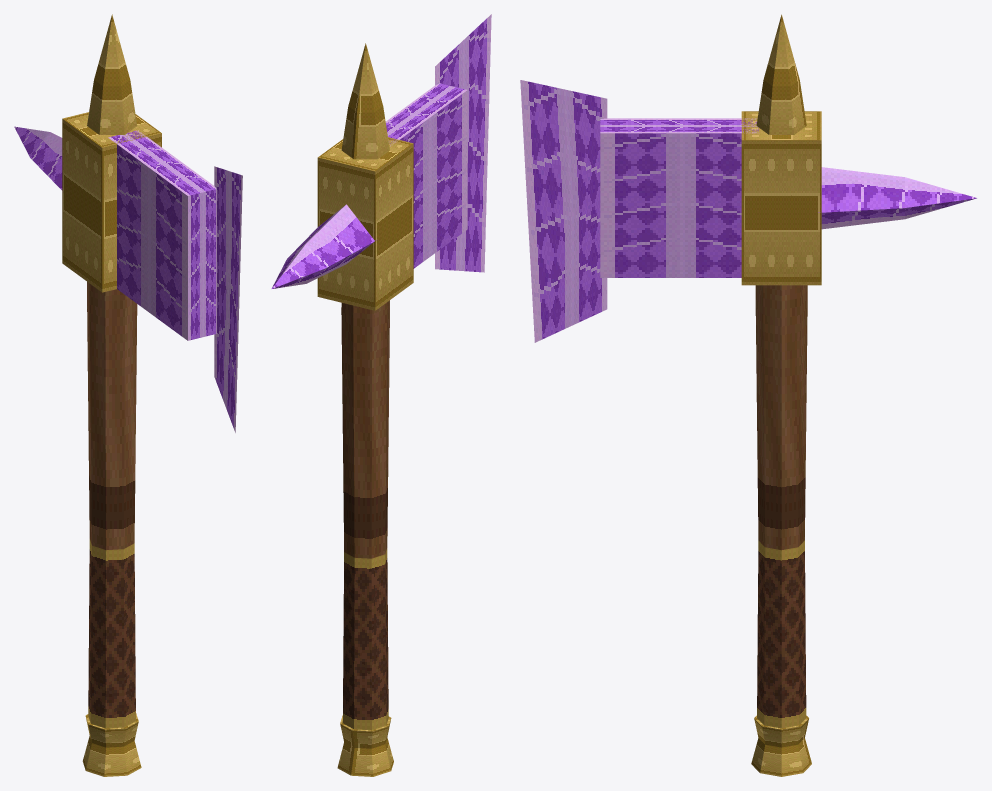
The model's file is machado_de_ametista.glb.
3 views of the same model, side by side, from view 1: azimuth 30°, elevation 25°; view 2: azimuth 150°, elevation 25°; view 3: azimuth 270°, elevation 25° (orthographic). The views are drawn at different scales.
Visible parts, largest first — view 1: machado_de_ametista; view 2: machado_de_ametista; view 3: machado_de_ametista.
Boxes of the visible parts, box(x1,y1,x2,y2) form: machado_de_ametista: box(14, 14, 242, 776); machado_de_ametista: box(271, 14, 491, 776); machado_de_ametista: box(520, 14, 976, 776).
Bounding box in the file's own units: 0.096 × 1.14 × 0.63.
1 material, 1 textured.
